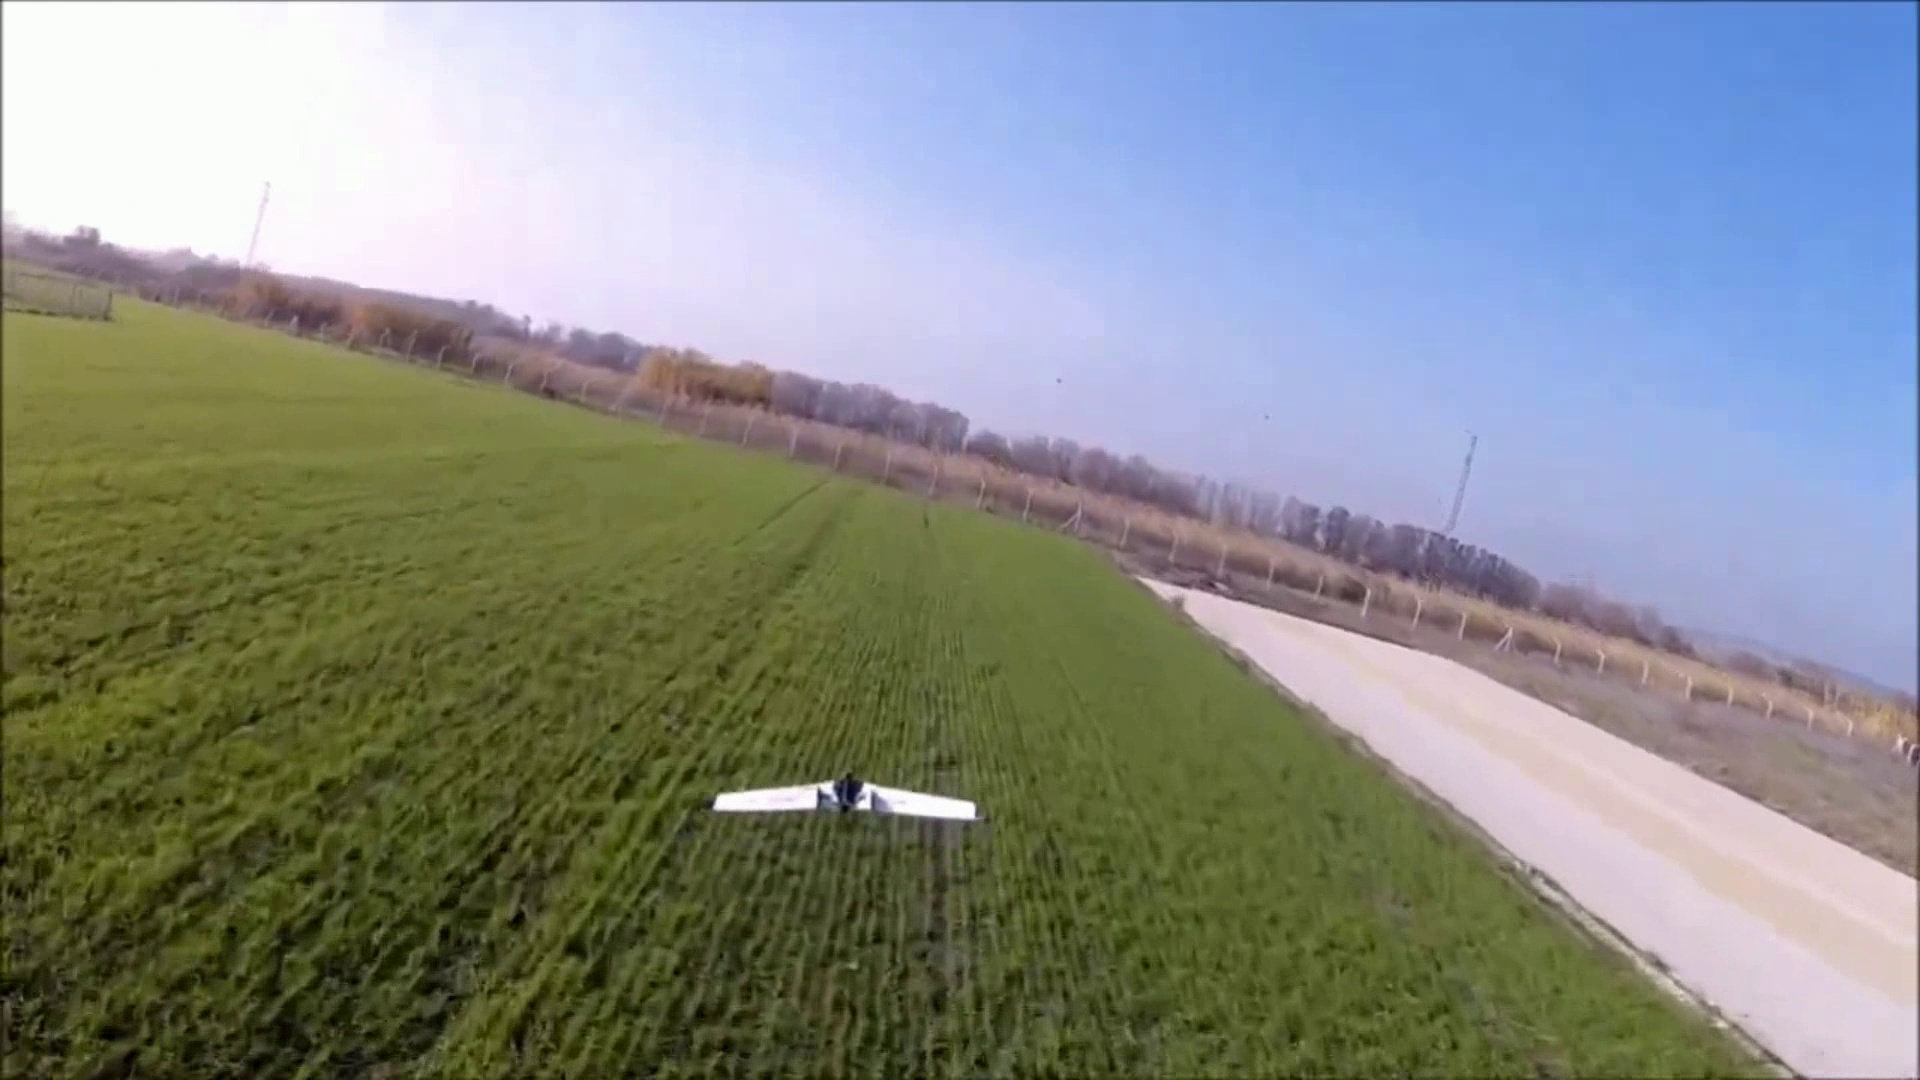airplane: (711, 774, 982, 825)
